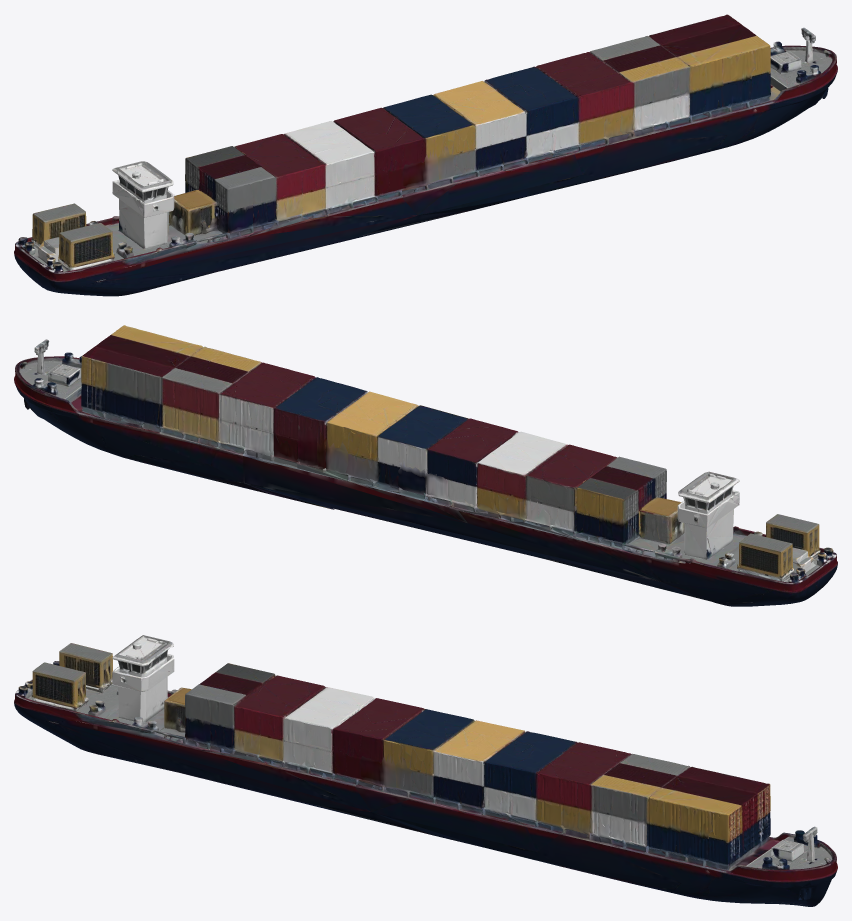
The model's file is 10_electric_inland_container_barge_110m.glb.
3 renders of one model, top to bottom at view 1: azimuth 30°, elevation 25°; view 2: azimuth 150°, elevation 25°; view 3: azimuth 330°, elevation 25°, orthographic.
Visible parts, largest first — view 1: Mesh_0; view 2: Mesh_0; view 3: Mesh_0.
Part boxes in pixels (box(x1,y1,x2,y2)): Mesh_0: box(14, 14, 837, 296); Mesh_0: box(14, 325, 837, 606); Mesh_0: box(14, 635, 837, 906).
Bounding box in the file's own units: 110 × 13.27 × 11.4.
1 material, 1 textured.
